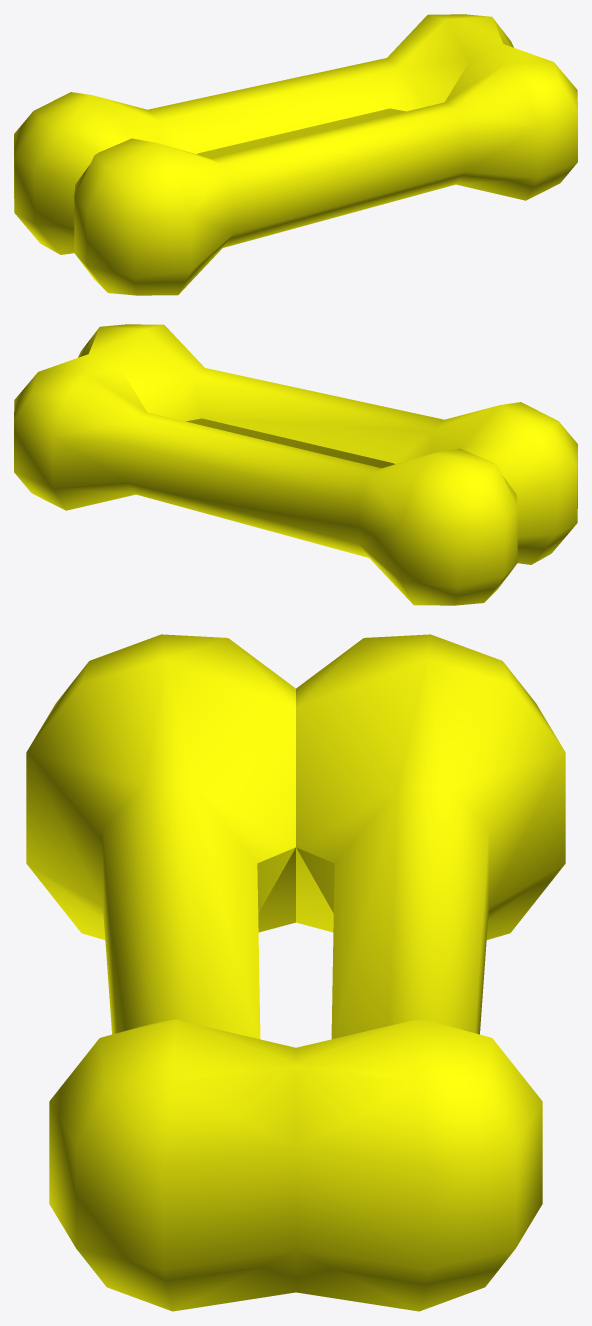
The model's file is kaykit-bone-b.glb.
3 views of the same model, one above another, from view 1: azimuth 30°, elevation 25°; view 2: azimuth 150°, elevation 25°; view 3: azimuth 270°, elevation 25° (orthographic). The views are drawn at different scales.
Parts seen in each view (by area): view 1: bone_B; view 2: bone_B; view 3: bone_B.
Part boxes in pixels (left/top/right/bottom): bone_B: left=14, top=14, right=577, bottom=295; bone_B: left=14, top=324, right=577, bottom=605; bone_B: left=26, top=634, right=565, bottom=1311.
Size of the model in its own units: 0.6063 by 0.1747 by 0.2867.
